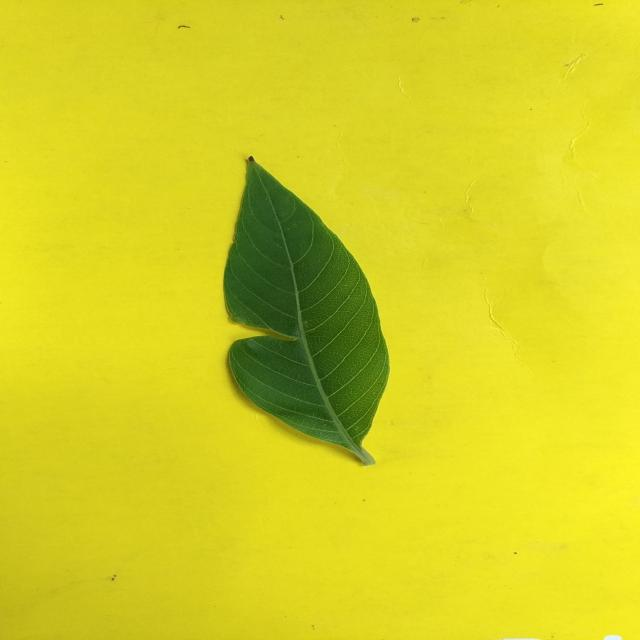seethaashoka: (224, 158, 389, 465)
